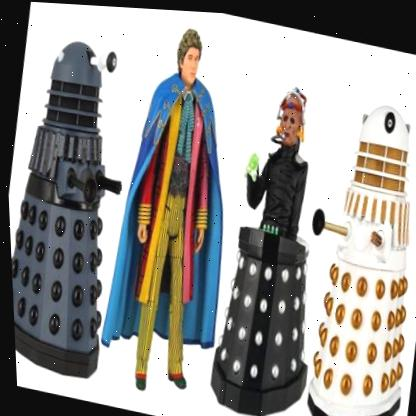dalek: (1, 20, 158, 391), (288, 84, 416, 416), (193, 222, 325, 416)
person: (98, 19, 255, 403), (233, 75, 332, 248)
